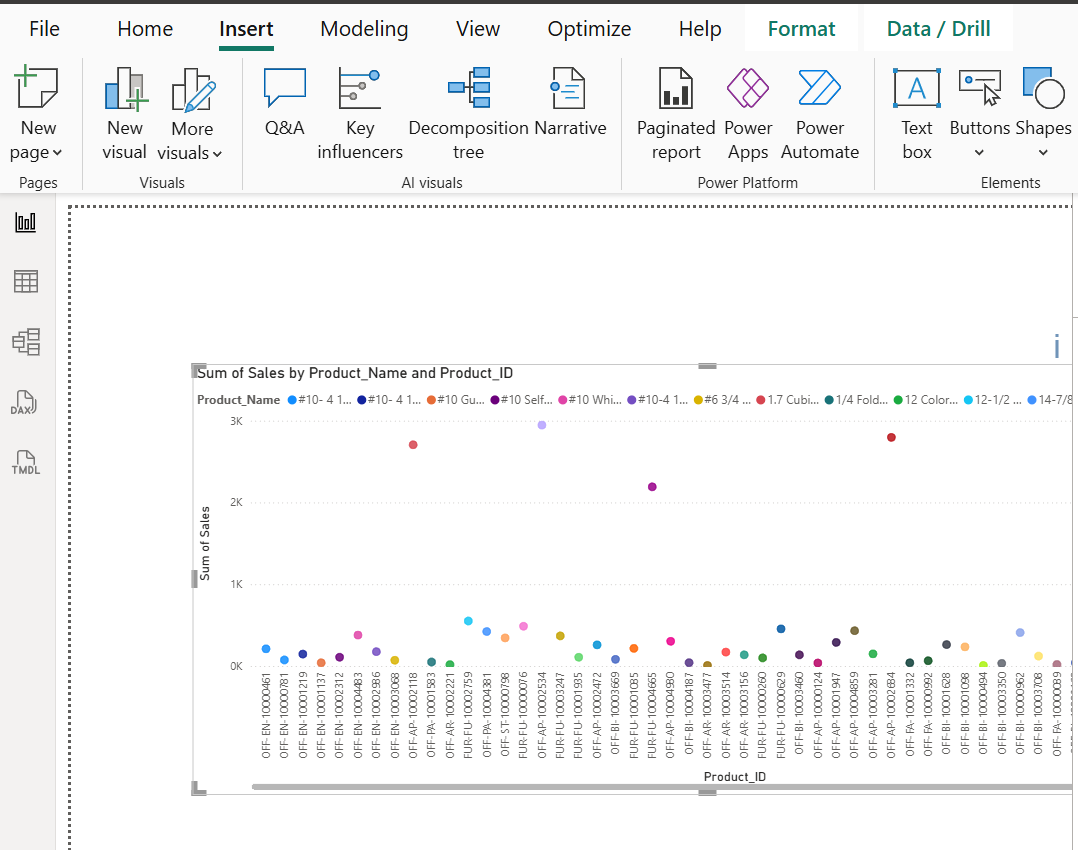

What the dashboard file says about the page in this screenshot:
{"tool":"powerbi","page":{"name":"Page 3","canvas":[1280,720],"ordinal":2},"visuals":[{"type":"scatterChart","fields":{"X":["superstore_final_dataset.Product_ID"],"Y":["Sum(superstore_final_dataset.Sales)"],"Series":["superstore_final_dataset.Product_Name"]},"box":[133.3,173.3,1145,478.3],"z":0}]}

Visuals, with their boxes on the page's 1280x720 design canvas (x1, y1, x2, y2). These are canvas units, not pixel positions in the 1078x850 screenshot, which may show the page scaled, cropped or inside an application window:
scatterChart - superstore_final_dataset.Product_ID x Sum(superstore_final_dataset.Sales): 133/173/1278/652
